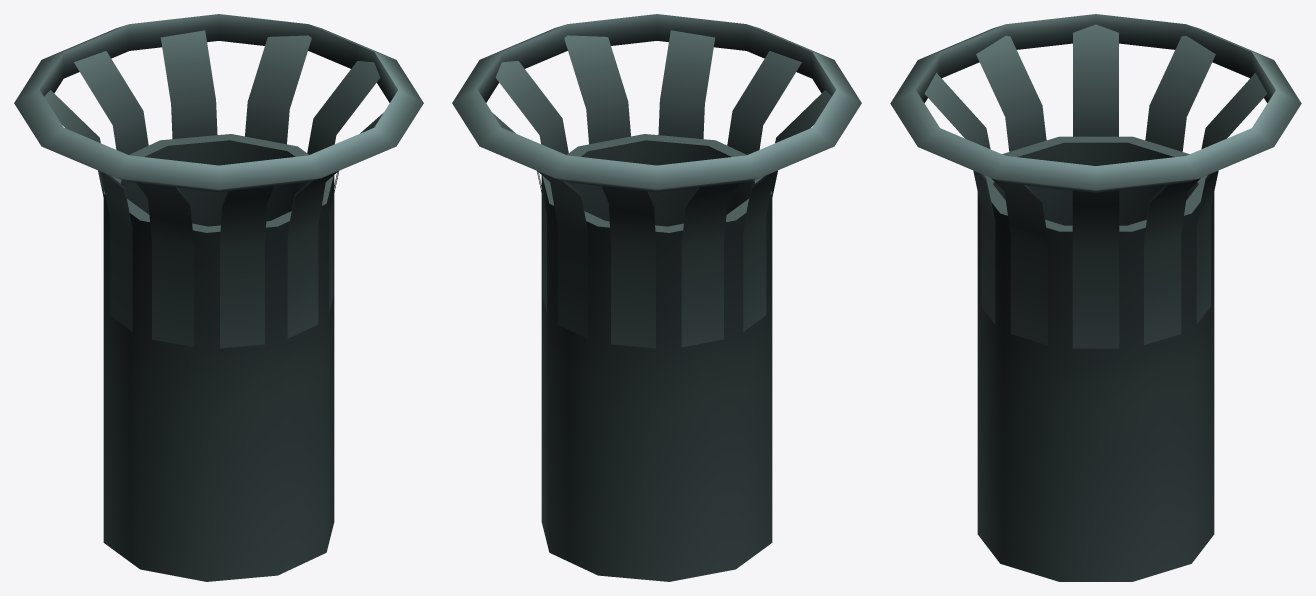
File: Trash_Can_1C.fbx
3 views of the same model, side by side, from view 1: azimuth 30°, elevation 25°; view 2: azimuth 150°, elevation 25°; view 3: azimuth 270°, elevation 25° (orthographic).
Parts seen in each view (by area): view 1: Trash_Can_1C; view 2: Trash_Can_1C; view 3: Trash_Can_1C.
Boxes of the visible parts, x1,y1,x2,y2 form: Trash_Can_1C: [14, 14, 423, 581]; Trash_Can_1C: [452, 14, 861, 581]; Trash_Can_1C: [890, 14, 1301, 581].
Bounding box in the file's own units: 95.8 × 114 × 95.8.
